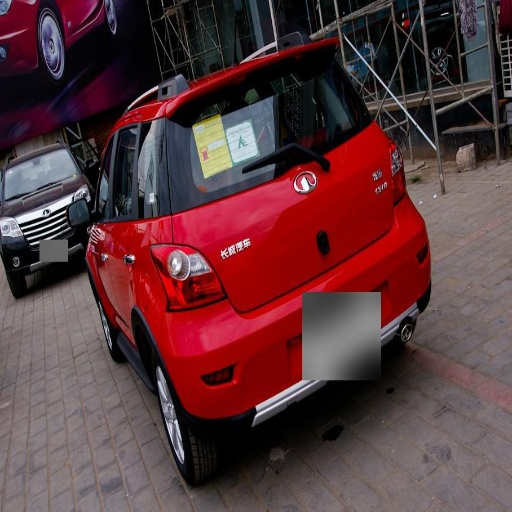back_bumper: (152, 222, 426, 419)
trunk: (109, 160, 389, 314)
